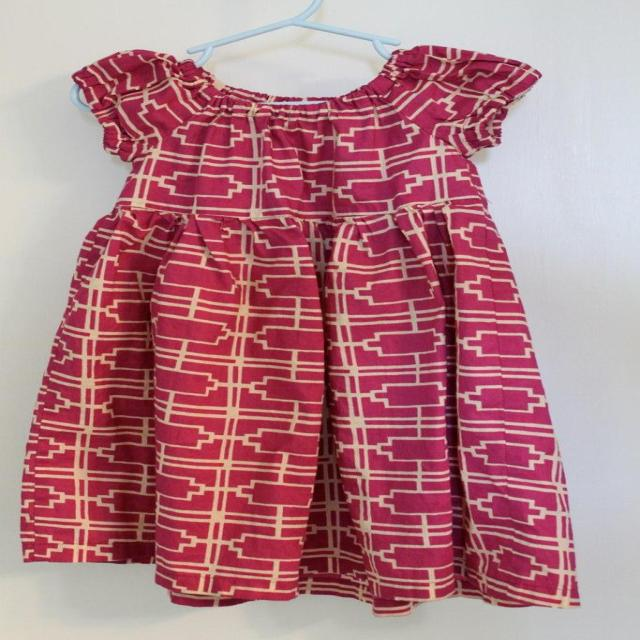Dress: (27, 43, 596, 616)
